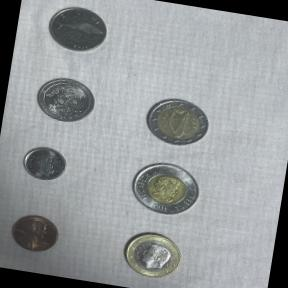coin: (120, 154, 212, 226), (138, 86, 219, 154), (39, 0, 116, 62), (114, 222, 189, 284), (28, 69, 104, 130), (1, 204, 68, 261), (14, 140, 74, 188)
